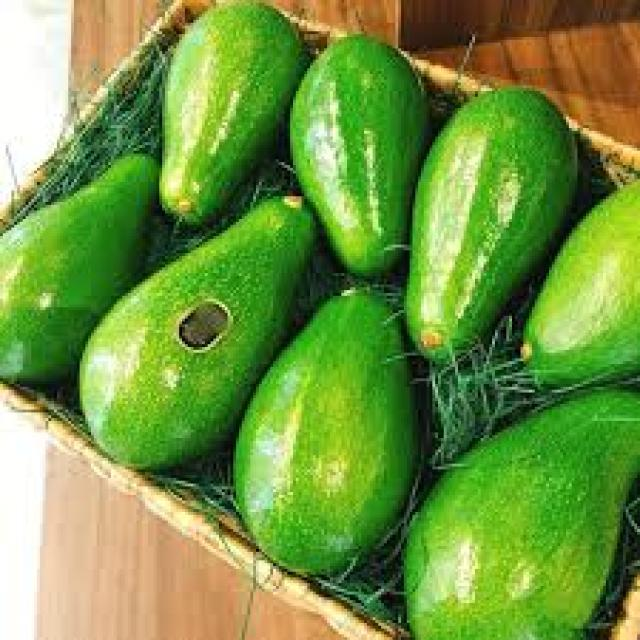Bo: (76, 189, 324, 470), (391, 377, 637, 637), (239, 287, 417, 578), (408, 82, 576, 361), (0, 145, 154, 387), (288, 32, 420, 279), (152, 5, 298, 216), (526, 165, 634, 387)
